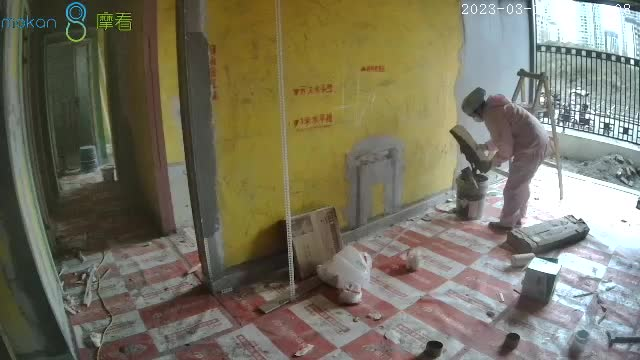people: (460, 87, 546, 228)
window: (534, 1, 640, 146)
